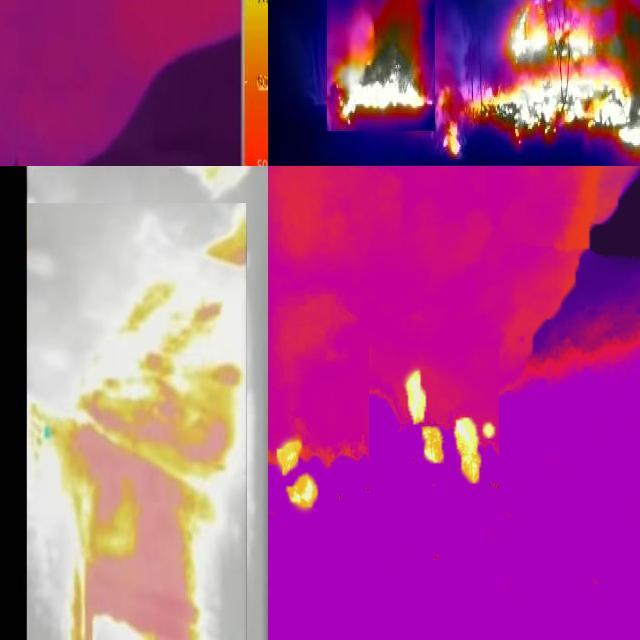fire: (28, 204, 248, 640), (483, 1, 640, 162), (370, 343, 500, 507), (328, 1, 436, 132), (269, 404, 356, 530), (437, 30, 483, 166)
